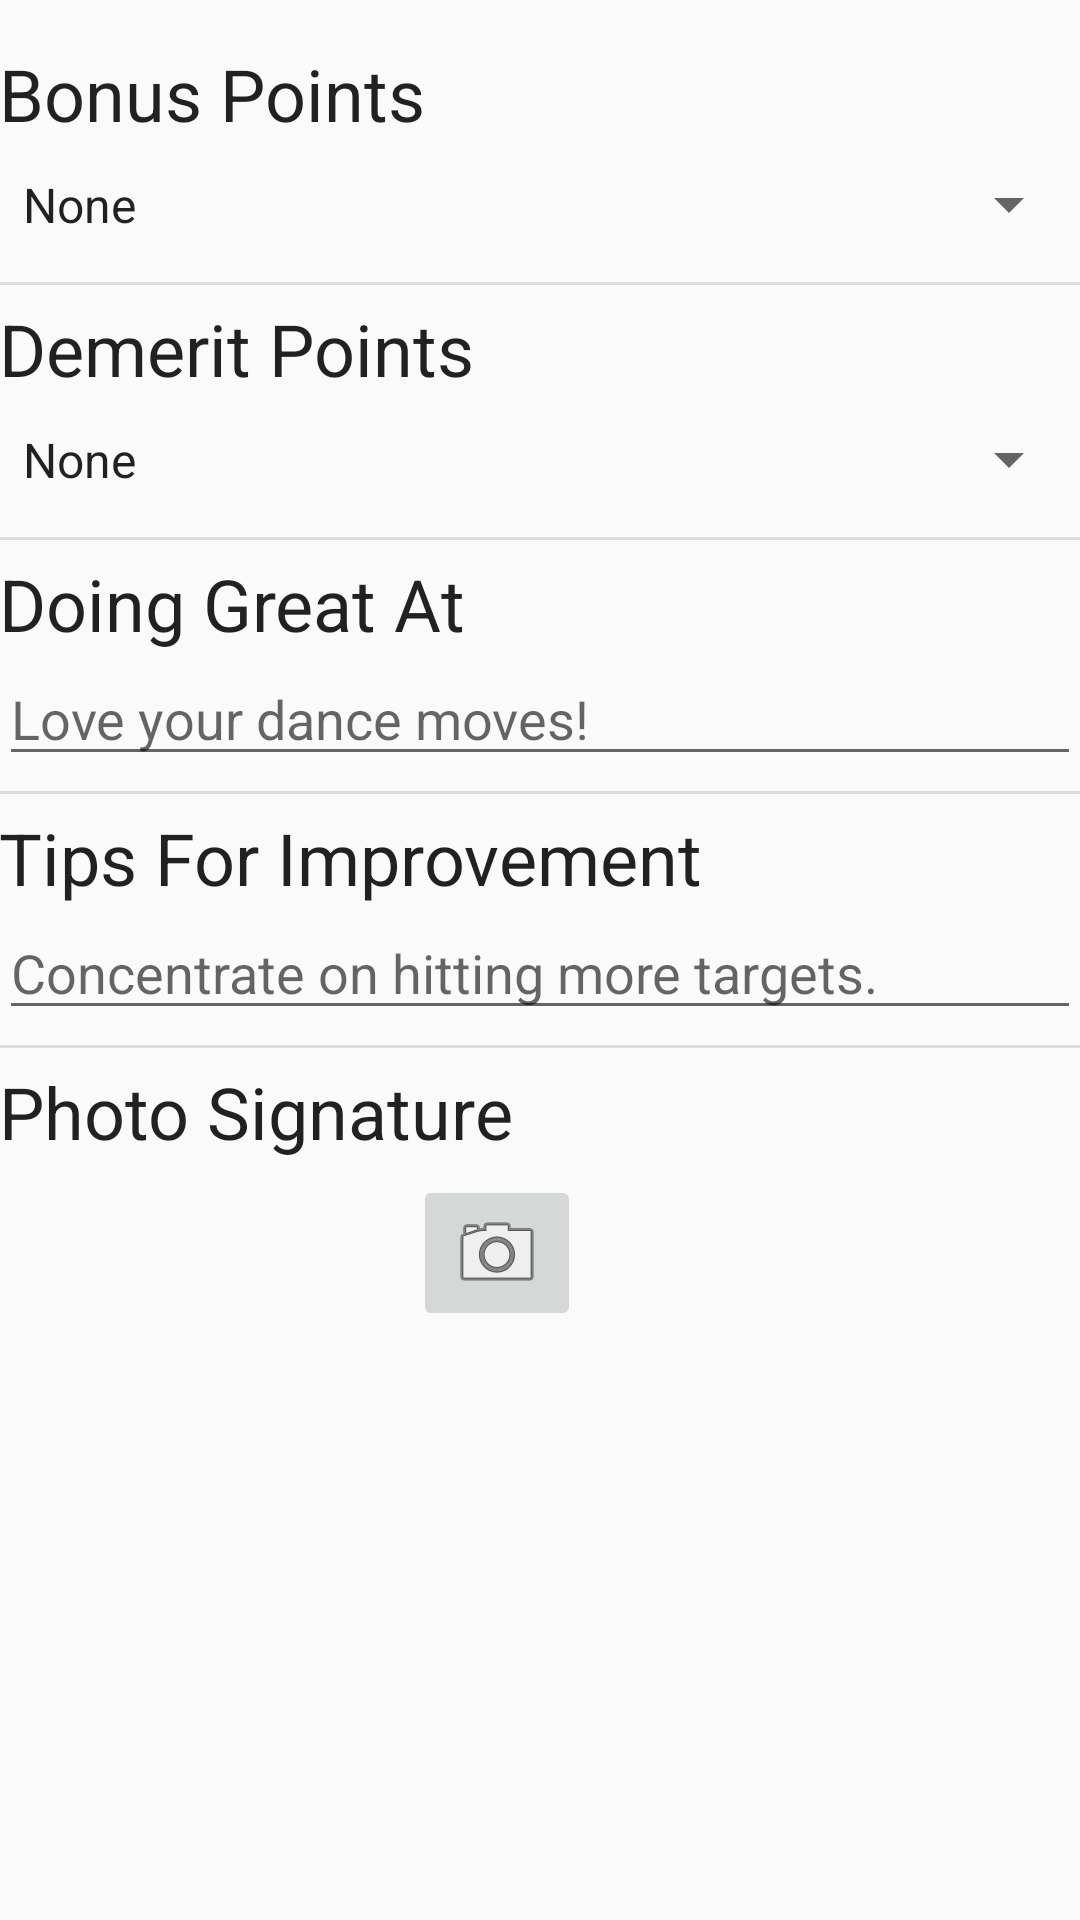

Where to tap for icons on this 1080w x 1920h app screen, as [x,y]:
camera: [497,1253]
